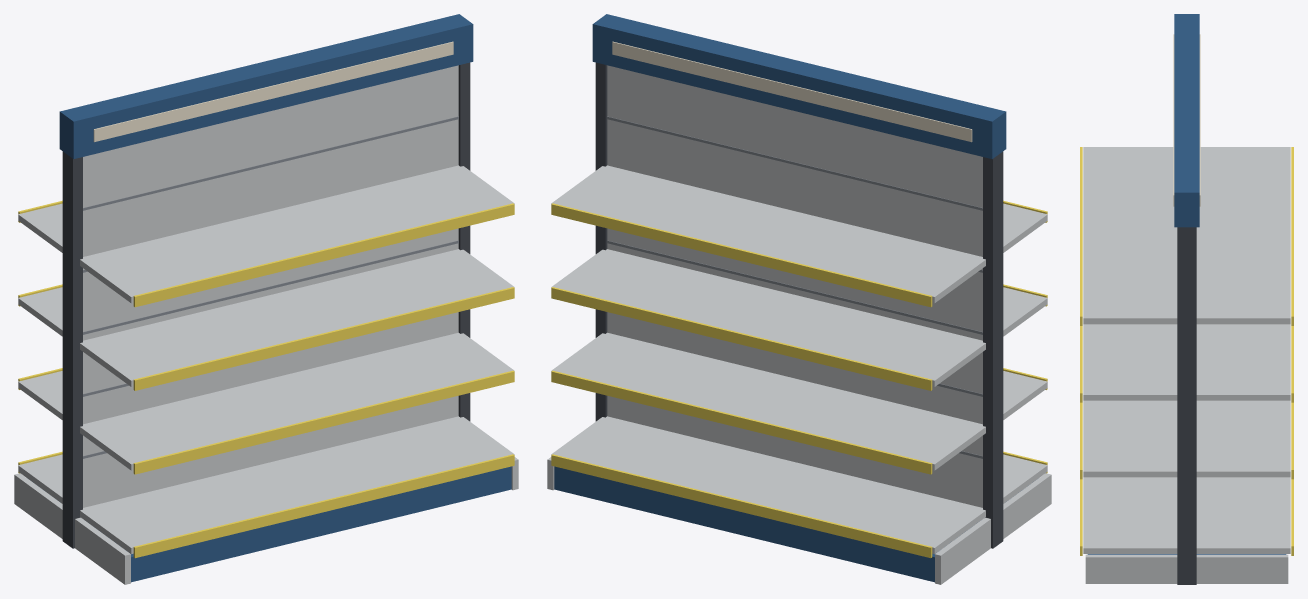
The model's file is Aisle_Shelf_Double_2m.fbx.
The picture shows the model from 3 angles, left to right: view 1: azimuth 30°, elevation 25°; view 2: azimuth 150°, elevation 25°; view 3: azimuth 270°, elevation 25°; orthographic projection. The views are drawn at different scales.
Parts seen in each view (by area): view 1: Aisle_Shelf_Double_2m; view 2: Aisle_Shelf_Double_2m; view 3: Aisle_Shelf_Double_2m.
Boxes of the visible parts, bbox=[...] form: Aisle_Shelf_Double_2m: bbox=[14, 14, 518, 584]; Aisle_Shelf_Double_2m: bbox=[547, 14, 1051, 584]; Aisle_Shelf_Double_2m: bbox=[1080, 14, 1293, 584].
Size of the model in its own units: 2 by 2.05 by 1.01.
1 material, 1 textured.
